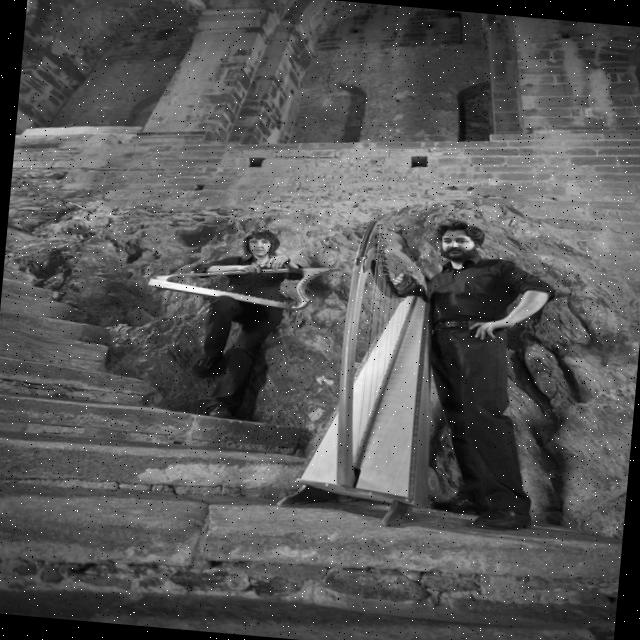harp: (292, 210, 446, 503), (138, 244, 344, 313)
